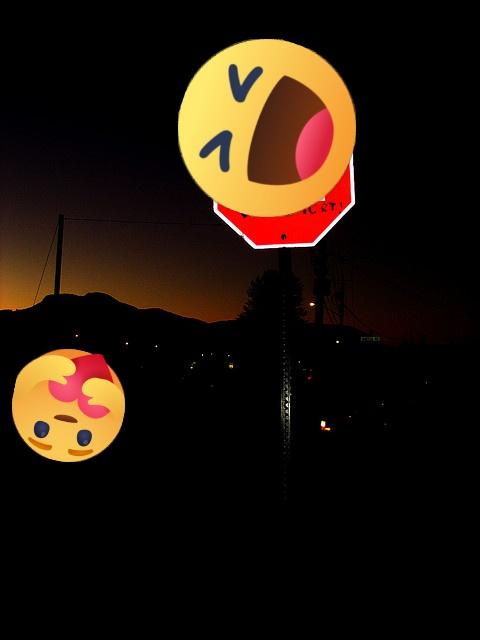care: (12, 349, 125, 462)
haha: (178, 39, 356, 217)
